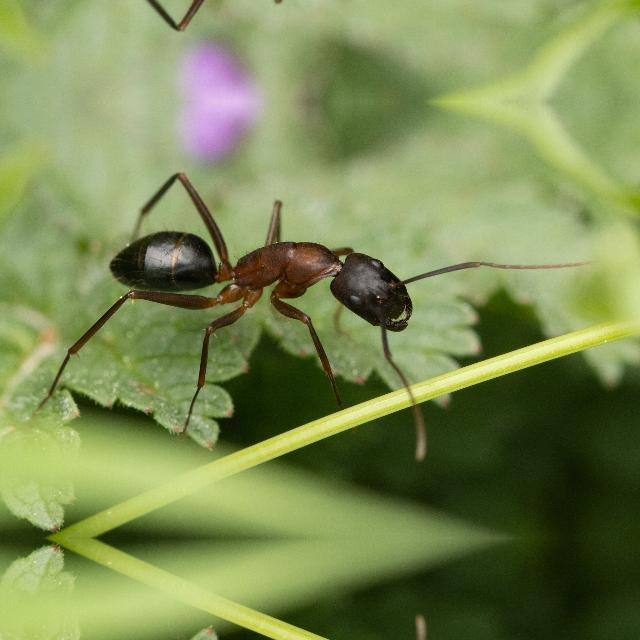Camponotus: (70, 186, 478, 374)
